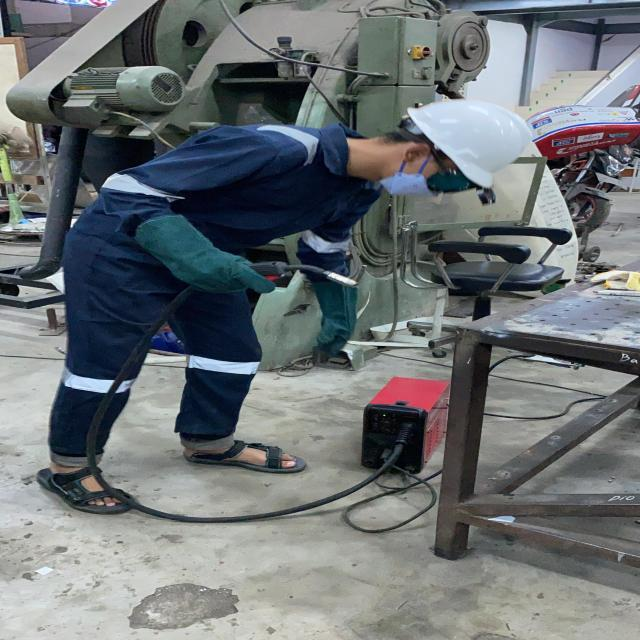glasses: (418, 160, 504, 210)
